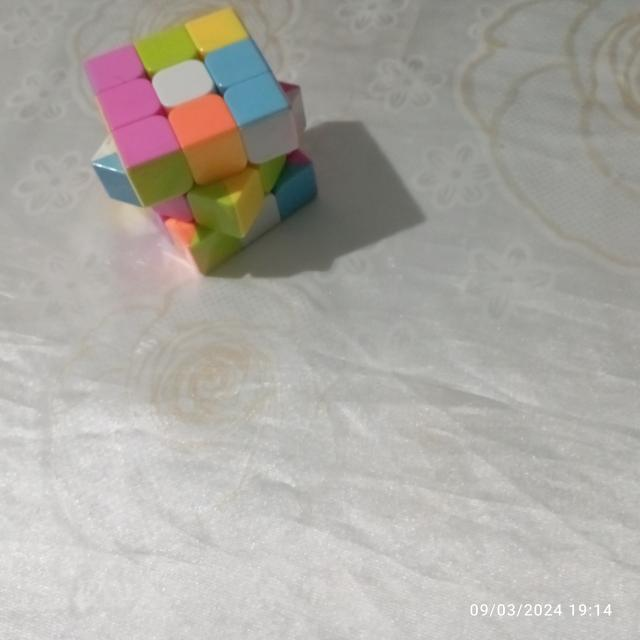Rub: (75, 1, 324, 280)
